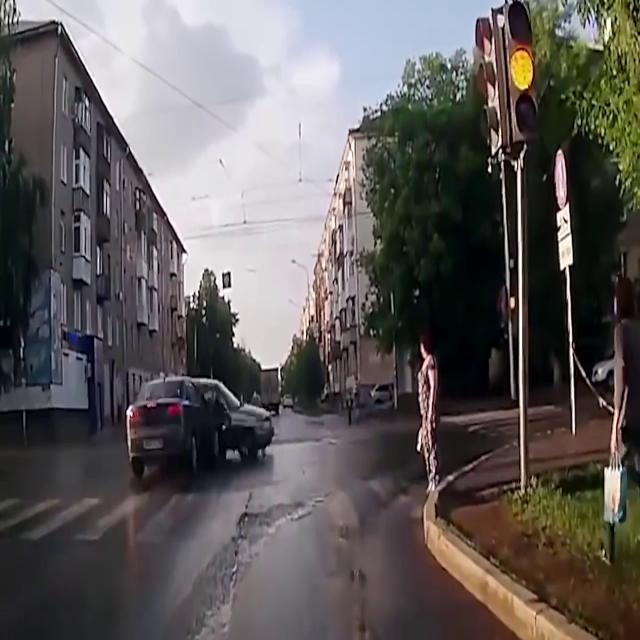accident: (121, 372, 276, 486)
